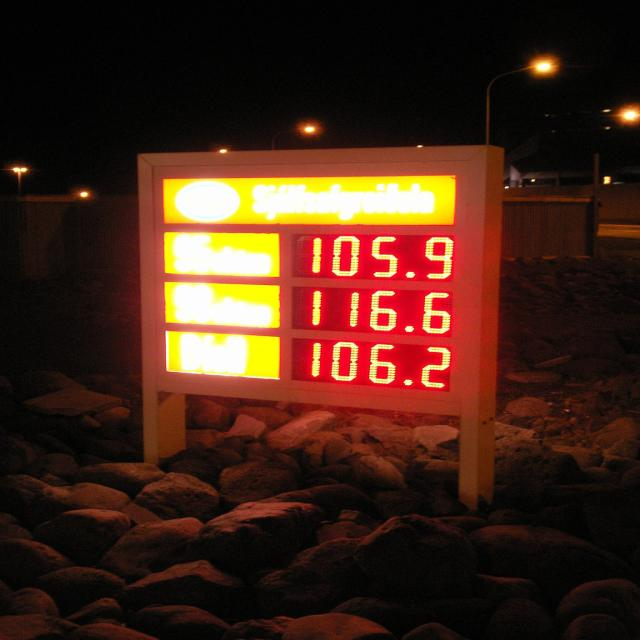no_fire: (62, 125, 464, 392)
